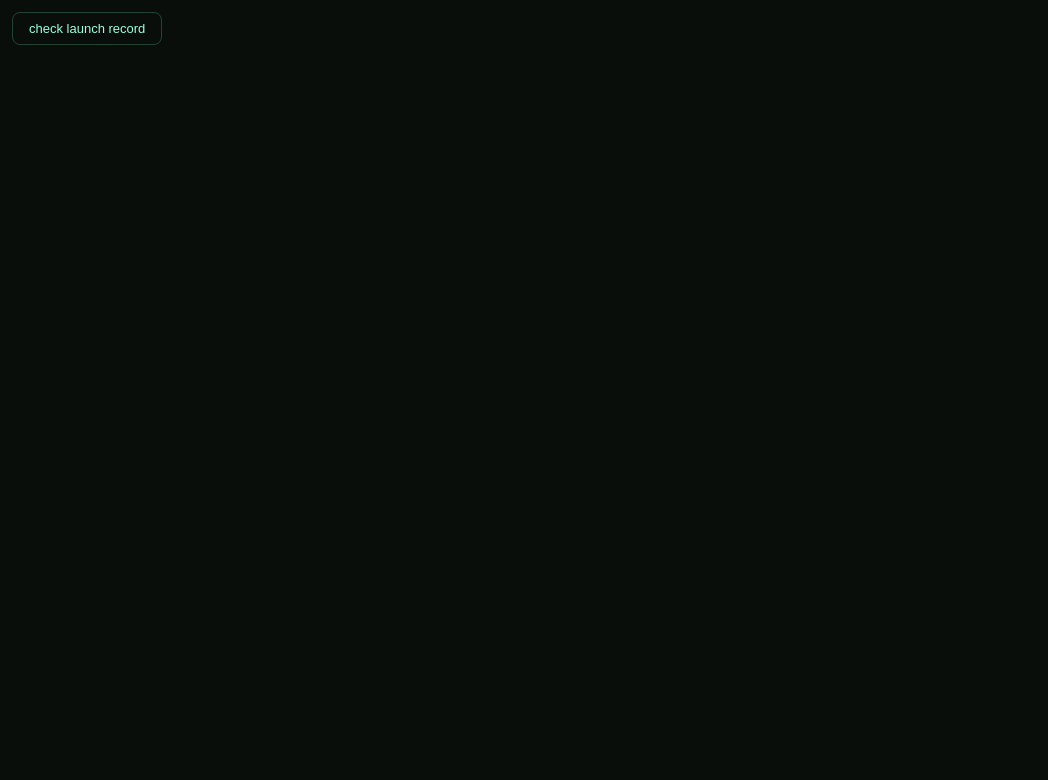
Test: pratica di lancio: ingresso solo locale e anteprima › aprendo legge lo stato e mostra le evidenze distinte; la conferma resta chiusa senza nome e motivo
The image size is (1048, 780).
Click the button "check launch record" at point(87, 28), box [12,12,162,45]
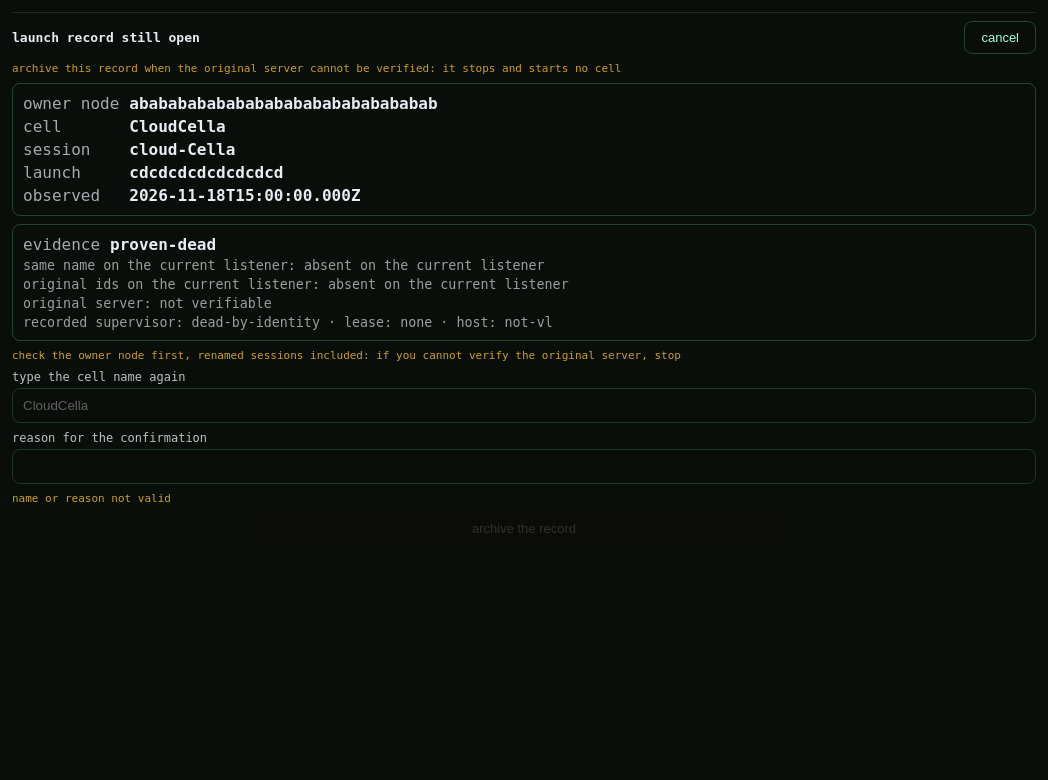
Now the text "launch record still open" is shown, box [12,30,200,45]
Now the text "proven-dead" is shown, box [110,235,216,254]
Now the text "same name on the current listener: absent on the current listener" is shown, box [23,258,545,273]
Type "altra" into the field with placeholder "CloudCella" at point(524, 406), box [12,388,1036,423]
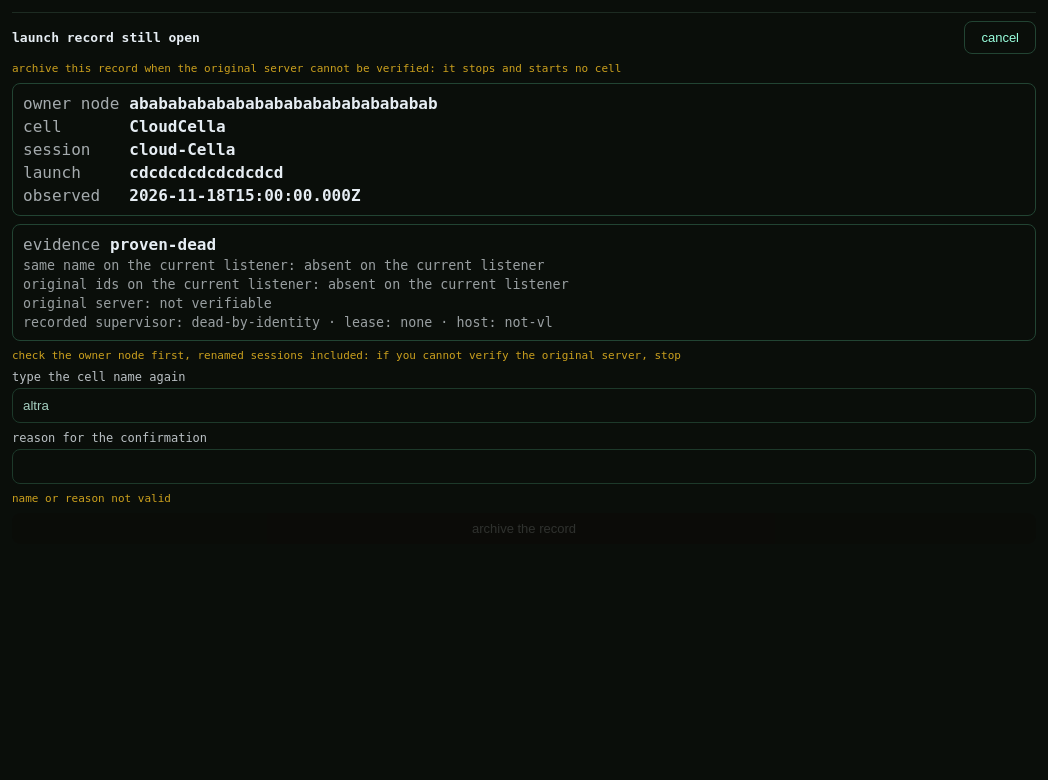
Type "verificata" into the field labelled "reason for the confirmation" at point(524, 466), box [12,449,1036,484]
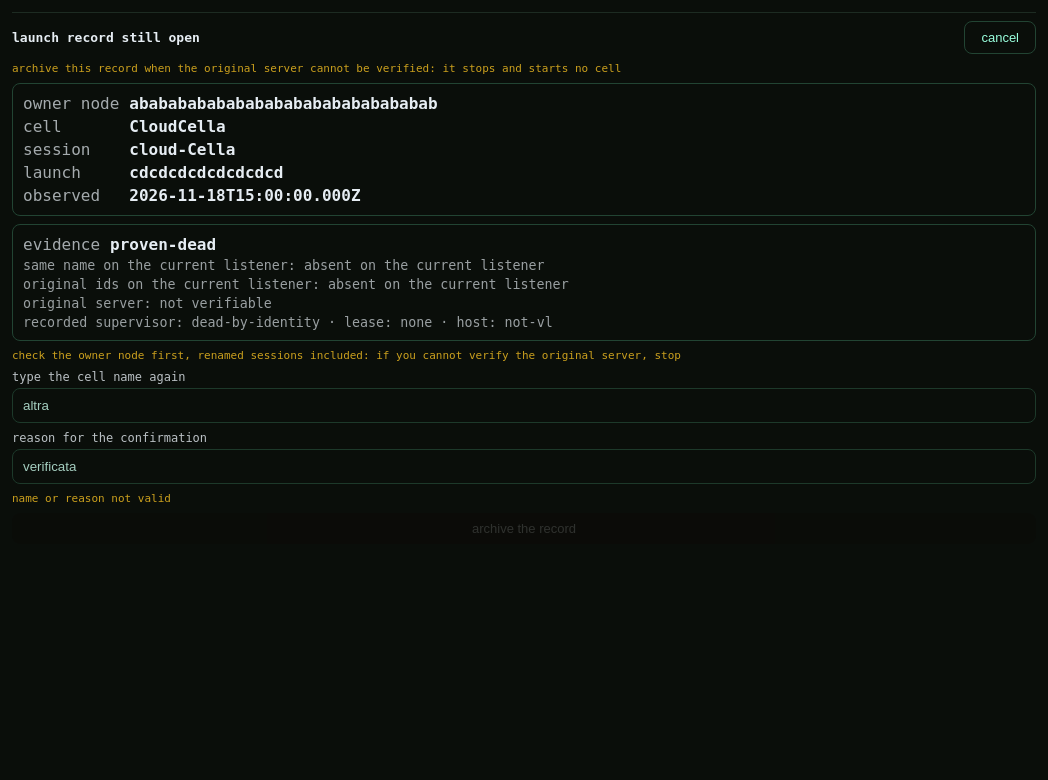
Now the button "archive the record" is disabled, box [12,513,1036,544]
Replace the text in the field labelled "type the cell name again" with "CloudCella" at point(524, 406), box [12,388,1036,423]
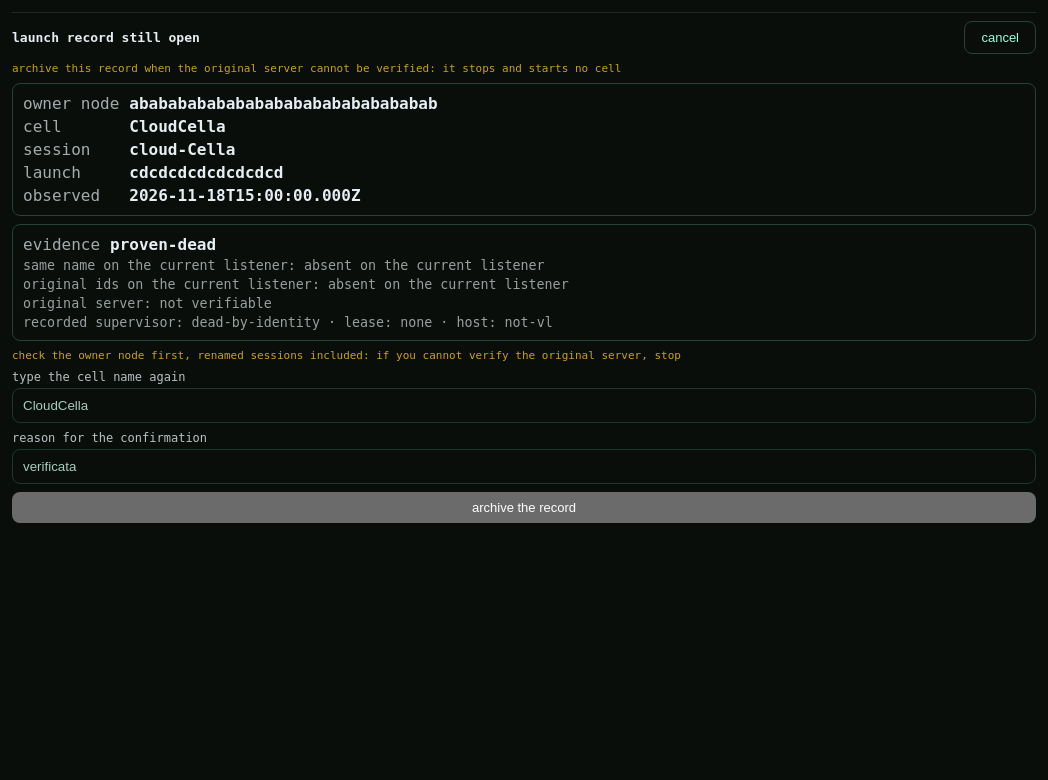
Now the button "archive the record" is enabled, box [12,492,1036,523]
